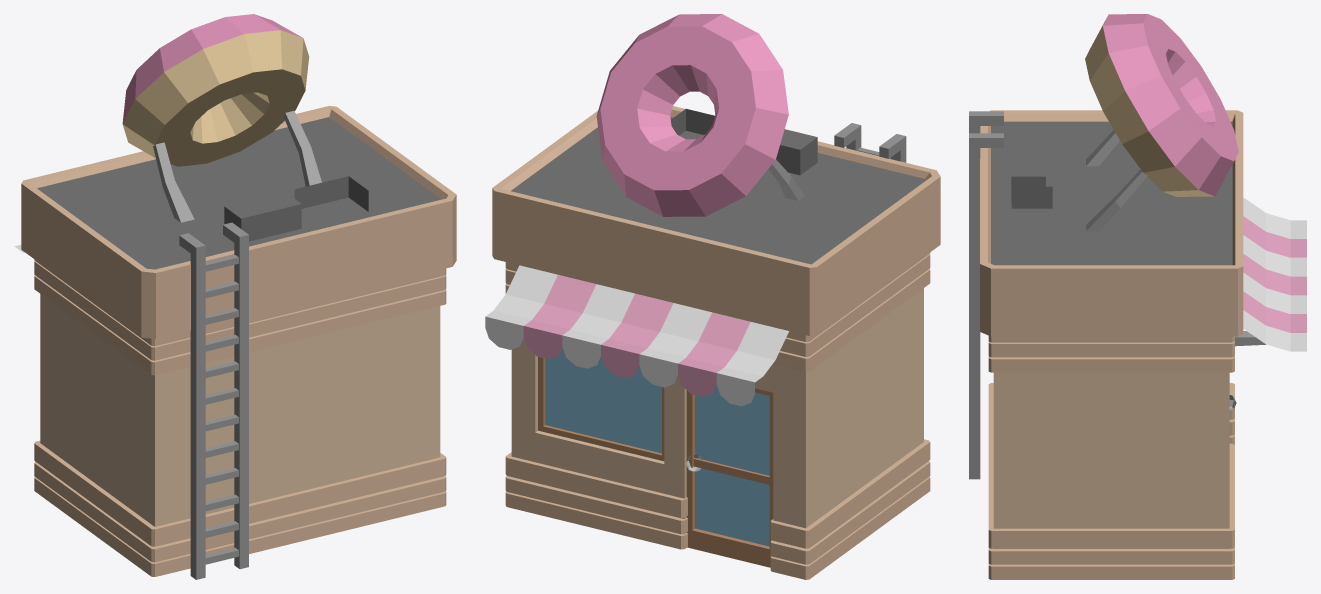
Rendered from donut-shop.glb.
3 renders of one model, left to right at view 1: azimuth 30°, elevation 25°; view 2: azimuth 150°, elevation 25°; view 3: azimuth 270°, elevation 25°, orthographic. The views are drawn at different scales.
Visible parts, largest first — view 1: donut-shop-optimised; view 2: donut-shop-optimised; view 3: donut-shop-optimised.
Part boxes in pixels (x1=…): donut-shop-optimised: x1=14, y1=14, x2=456, y2=579; donut-shop-optimised: x1=485, y1=14, x2=940, y2=579; donut-shop-optimised: x1=969, y1=14, x2=1306, y2=579.
Bounding box in the file's own units: 1.15 × 1.65 × 1.04.
